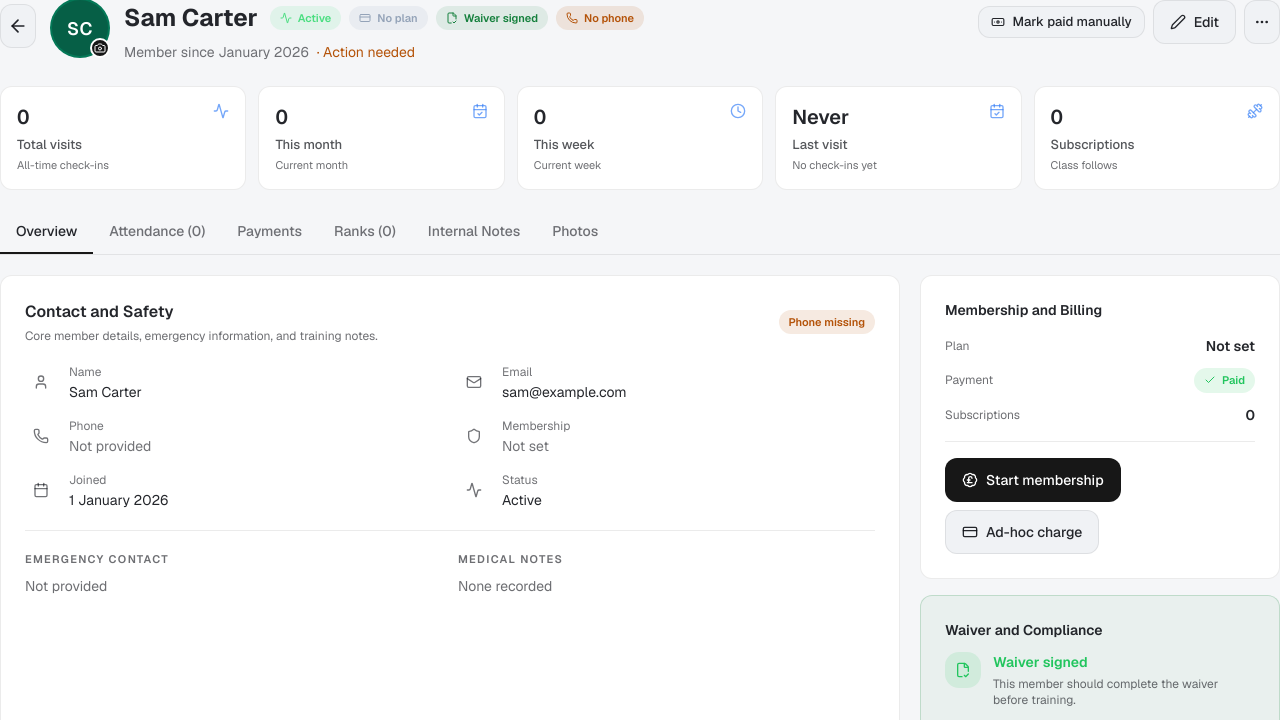
Test: payments tab under an error (D13) › shows no count and no '0 records' when payments failed to load
Click the tab "Payments".
click(270, 232)  # box [221,210,318,254]
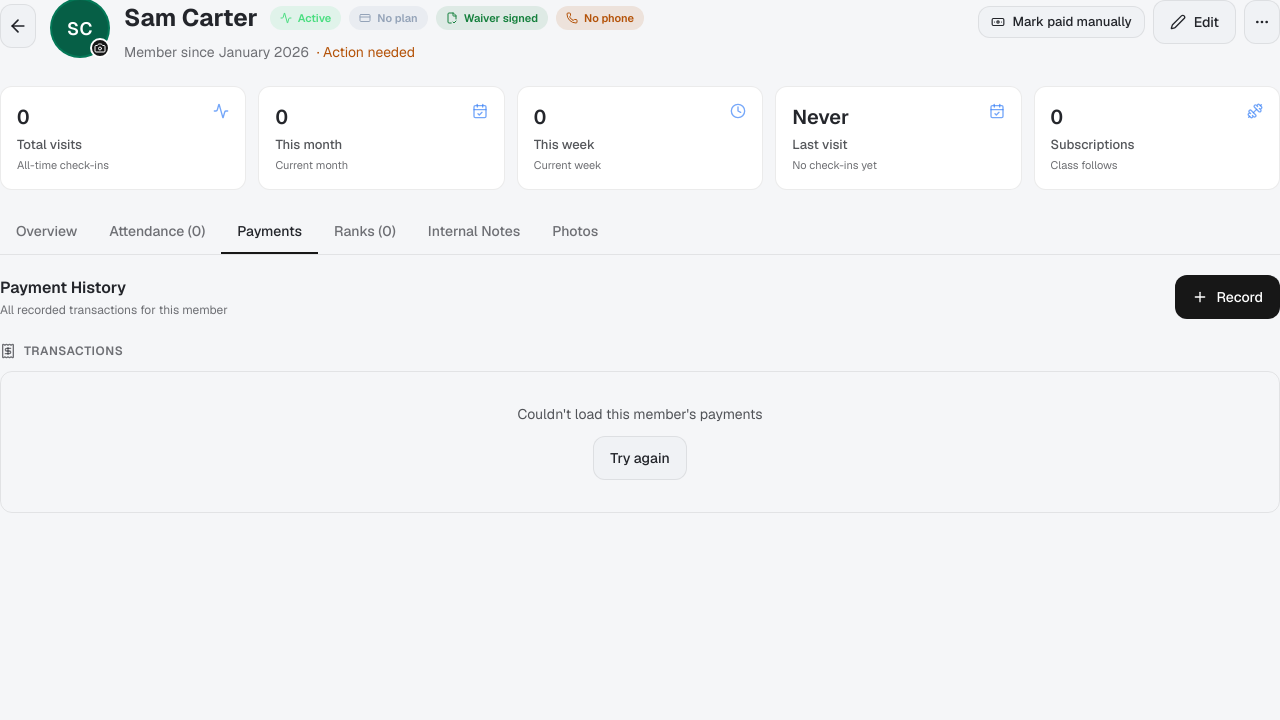
Result: the text "Couldn't load this member's payments" is shown at [517,404,763,424]
